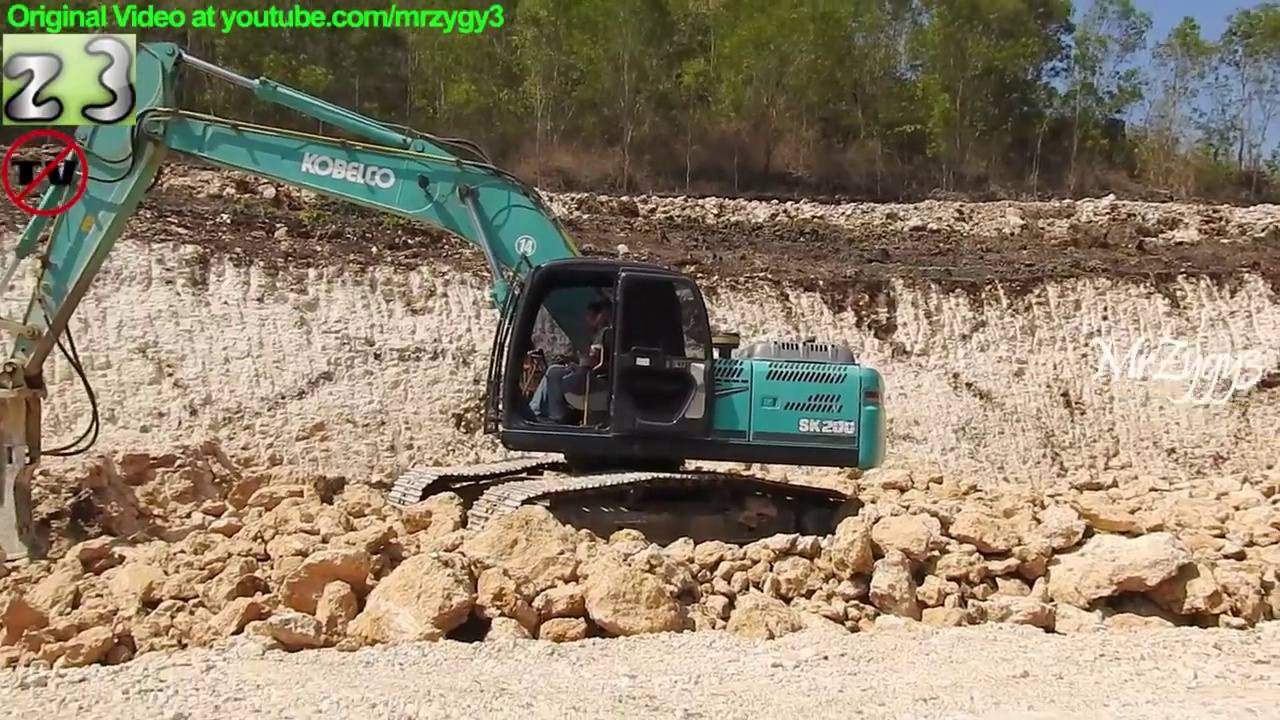excavator: (1, 35, 888, 585)
